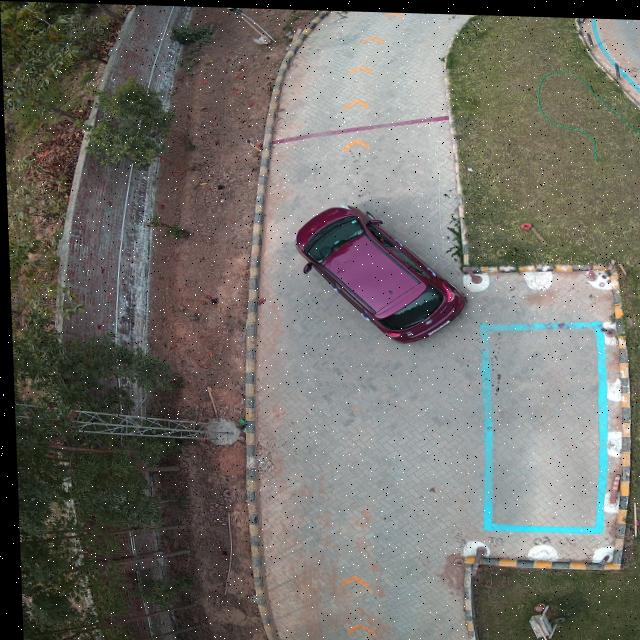car: (295, 202, 464, 341)
